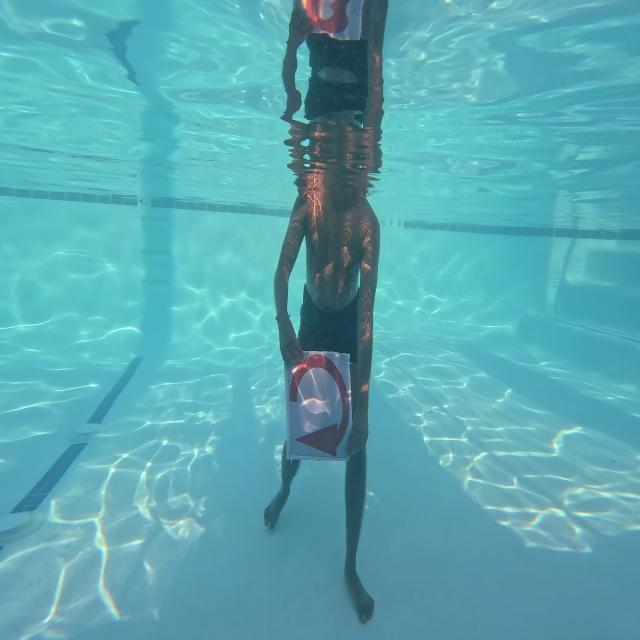red_side: (286, 358, 353, 459)
